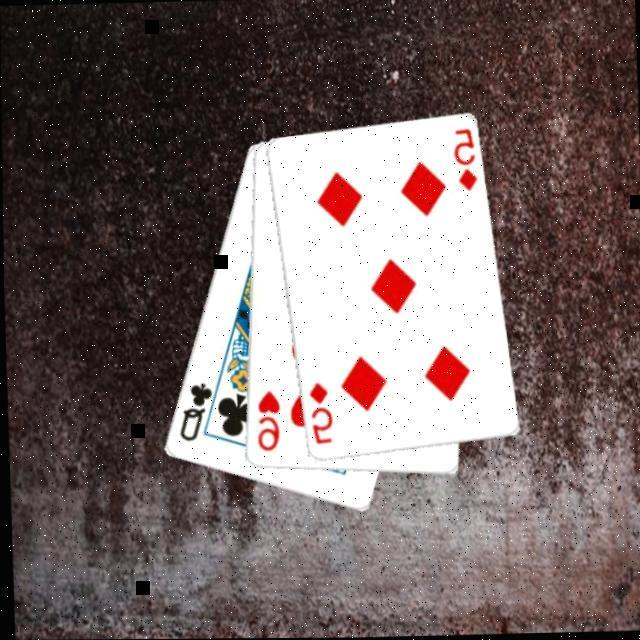5D: (302, 381, 333, 449), (448, 128, 479, 196)
9H: (249, 389, 281, 456)
QC: (171, 381, 213, 447)
